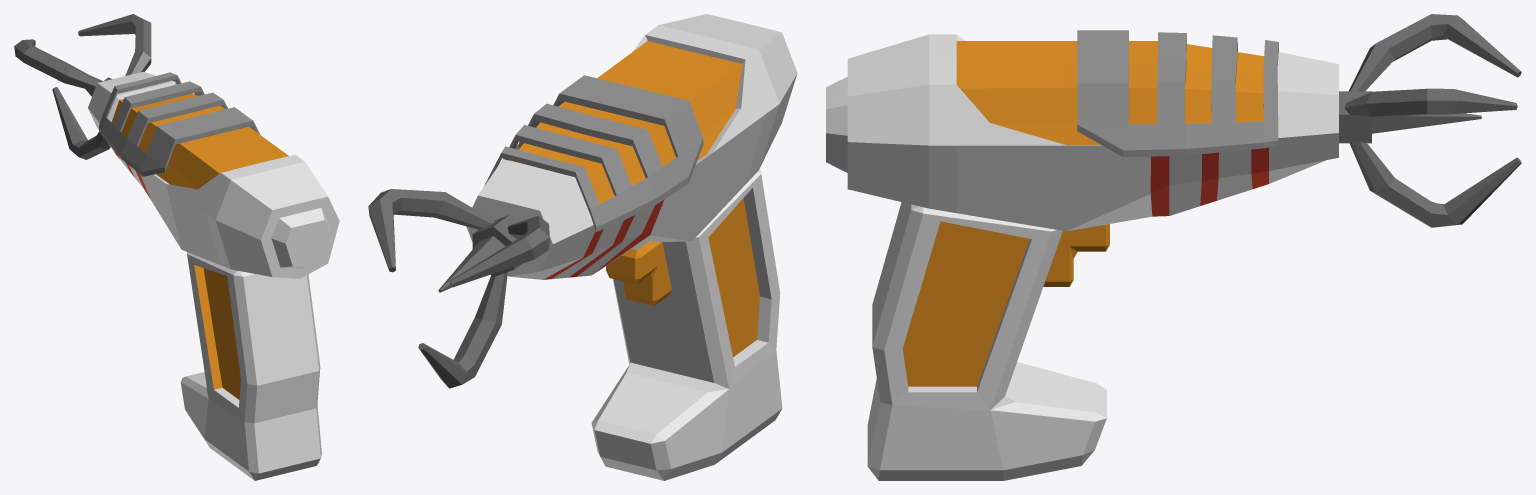
File: grappler_2.fbx
The picture shows the model from 3 angles, left to right: view 1: azimuth 30°, elevation 25°; view 2: azimuth 150°, elevation 25°; view 3: azimuth 270°, elevation 25°; orthographic projection. The views are drawn at different scales.
Parts seen in each view (by area): view 1: Cube; view 2: Cube; view 3: Cube.
Part boxes in pixels (x1=…): Cube: x1=14, y1=14, x2=339, y2=480; Cube: x1=368, y1=14, x2=797, y2=480; Cube: x1=826, y1=14, x2=1521, y2=480.
Size of the model in its own units: 347 by 773 by 1191.
